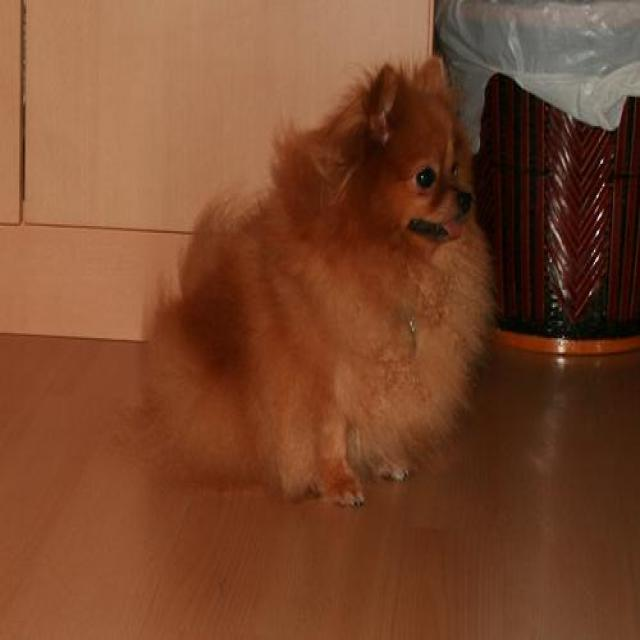sitting: (121, 45, 496, 513)
